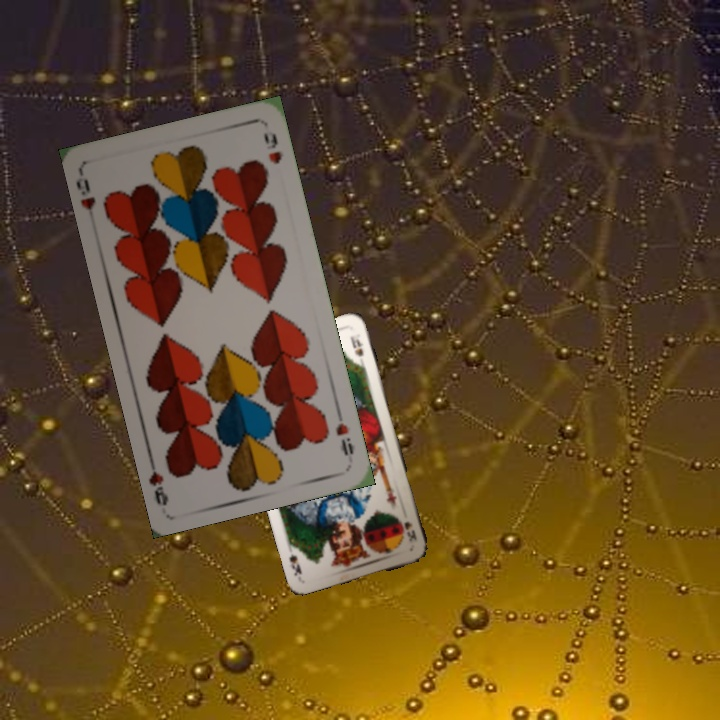H9: (331, 405, 356, 459), (73, 175, 98, 213)
SK: (400, 518, 419, 544)
